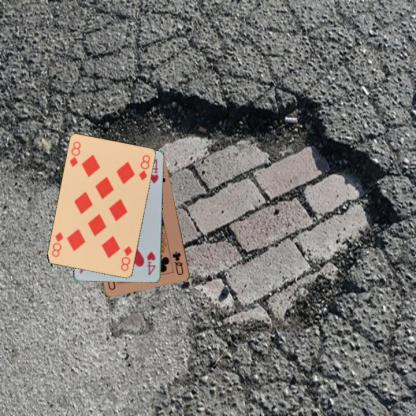4h: (145, 249, 157, 277)
8d: (118, 243, 134, 273), (67, 139, 82, 168)
Qc: (170, 249, 185, 277)
